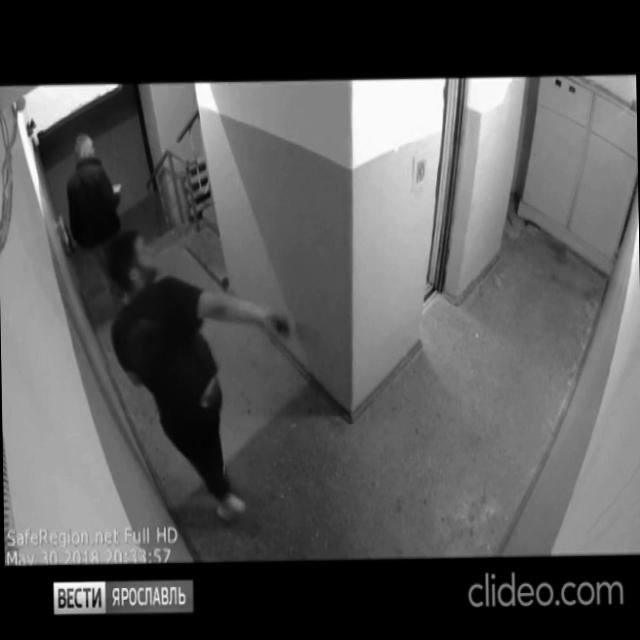gun: (262, 304, 316, 350)
person: (64, 128, 144, 334)
person with a gun: (104, 223, 318, 531)
